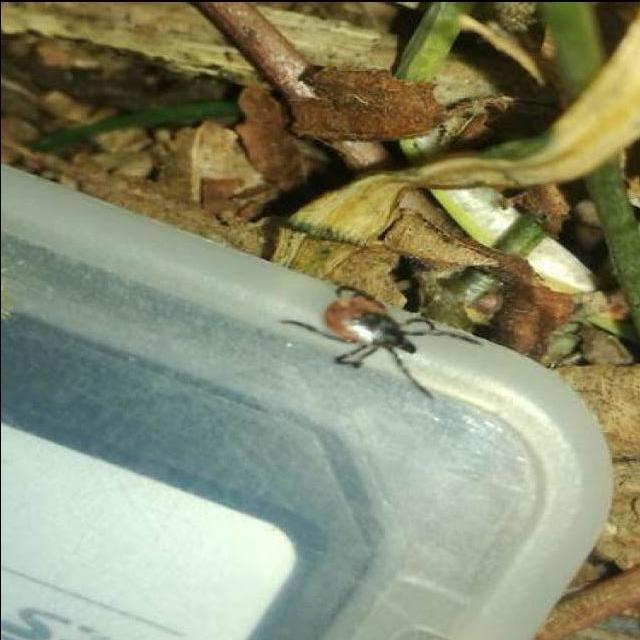Ixodes Ricinus-F: (280, 297, 476, 397)
